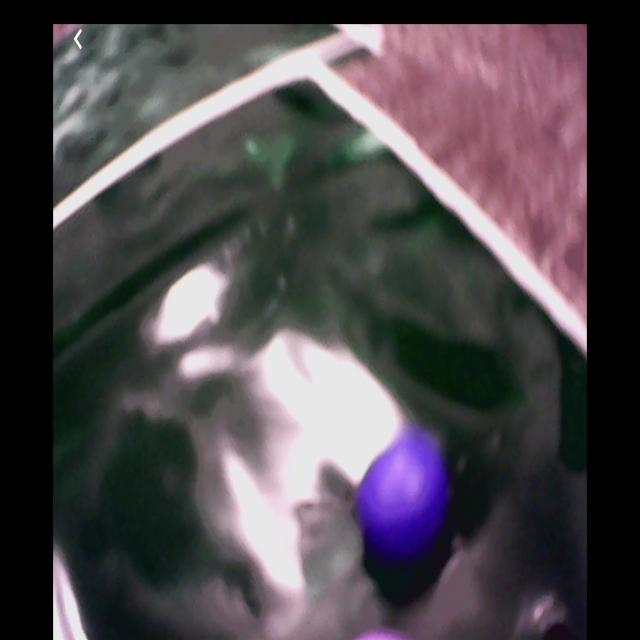ball: (357, 437, 451, 564)
